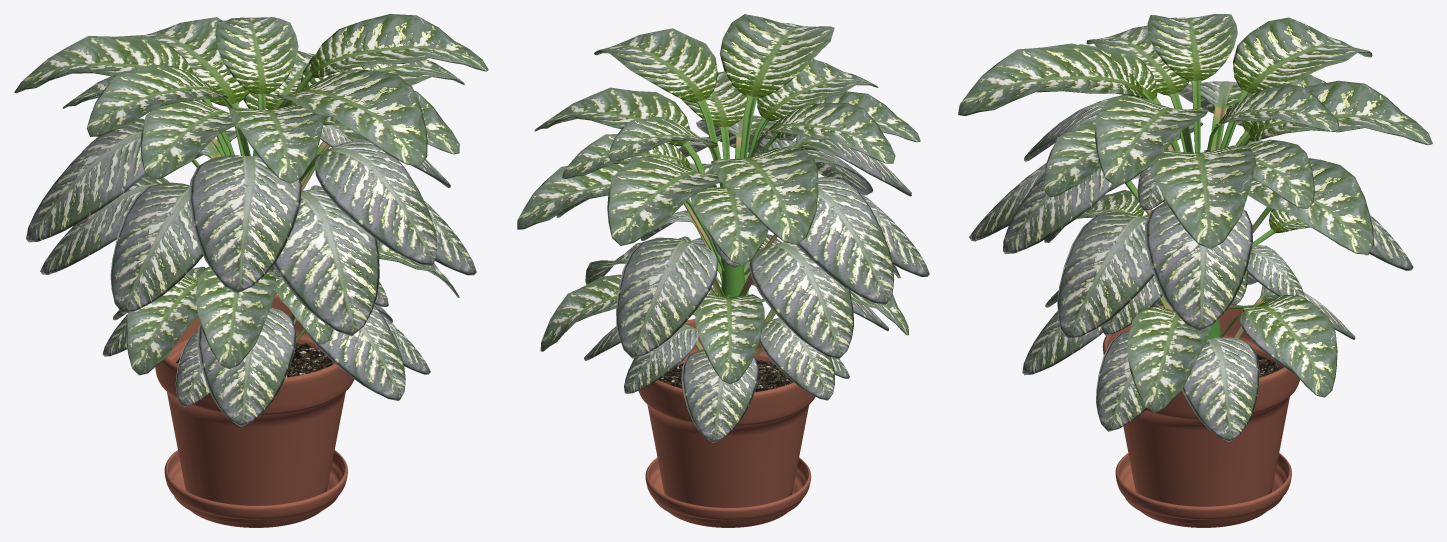
3 views of the same model, side by side, from view 1: azimuth 30°, elevation 25°; view 2: azimuth 150°, elevation 25°; view 3: azimuth 270°, elevation 25° (orthographic). The views are drawn at different scales.
Parts seen in each view (by area): view 1: GeodeCylinder.001, GeodeCube.019, GeodeCube.026, GeodeCube.020, GeodeCube.025, GeodeCube.011, GeodeCube.018, GeodeCube.006, GeodeCube.040, GeodeCube.035, GeodeCube.037, GeodeCube.004 (+20 smaller); view 2: GeodeCylinder.001, GeodeCube.023, GeodeCube.024, GeodeCube.018, GeodeCube.011, GeodeCube.013, GeodeCube.003, GeodeCube.006, GeodeCube, GeodeCube.001, GeodeCube.004, GeodeCube.014 (+21 smaller); view 3: GeodeCylinder.001, GeodeCube.021, GeodeCube.015, GeodeCube.011, GeodeCube.014, GeodeCube.013, GeodeCube.006, GeodeCube.042, GeodeCube.032, GeodeCube.033, GeodeCube.012, GeodeCube.004 (+21 smaller).
Part boxes in pixels (bbox=[...]): GeodeCylinder.001: bbox=[155, 294, 354, 505]; GeodeCube.019: bbox=[188, 155, 301, 293]; GeodeCube.026: bbox=[273, 188, 379, 336]; GeodeCube.020: bbox=[300, 140, 436, 266]; GeodeCube.025: bbox=[110, 182, 203, 313]; GeodeCube.011: bbox=[274, 69, 427, 166]; GeodeCube.018: bbox=[26, 118, 199, 242]; GeodeCube.006: bbox=[290, 14, 488, 105]; GeodeCube.040: bbox=[197, 307, 296, 426]; GeodeCube.035: bbox=[195, 267, 276, 368]; GeodeCube.037: bbox=[215, 17, 298, 109]; GeodeCube.004: bbox=[86, 64, 233, 136]; GeodeCylinder.001: bbox=[633, 319, 815, 507]; GeodeCube.023: bbox=[616, 237, 725, 358]; GeodeCube.024: bbox=[739, 242, 853, 359]; GeodeCube.018: bbox=[796, 176, 894, 305]; GeodeCube.011: bbox=[719, 14, 834, 158]; GeodeCube.013: bbox=[711, 146, 818, 244]; GeodeCube.003: bbox=[607, 156, 720, 245]; GeodeCube.006: bbox=[594, 28, 720, 158]; GeodeCube: bbox=[695, 294, 764, 384]; GeodeCube.001: bbox=[681, 349, 758, 442]; GeodeCube.004: bbox=[750, 102, 895, 163]; GeodeCube.014: bbox=[534, 87, 705, 173]; GeodeCylinder.001: bbox=[1102, 304, 1299, 506]; GeodeCube.021: bbox=[1057, 211, 1153, 339]; GeodeCube.015: bbox=[1145, 202, 1252, 331]; GeodeCube.011: bbox=[958, 43, 1176, 151]; GeodeCube.014: bbox=[1150, 145, 1256, 248]; GeodeCube.013: bbox=[1220, 17, 1372, 148]; GeodeCube.006: bbox=[1095, 94, 1208, 185]; GeodeCube.042: bbox=[1182, 337, 1259, 441]; GeodeCube.032: bbox=[1227, 295, 1337, 397]; GeodeCube.033: bbox=[1127, 306, 1210, 412]; GeodeCube.012: bbox=[1248, 158, 1373, 254]; GeodeCube.004: bbox=[1147, 14, 1237, 152].
Size of the model in its own units: 1.27 by 1.35 by 1.32.
5 materials, 4 textured.
